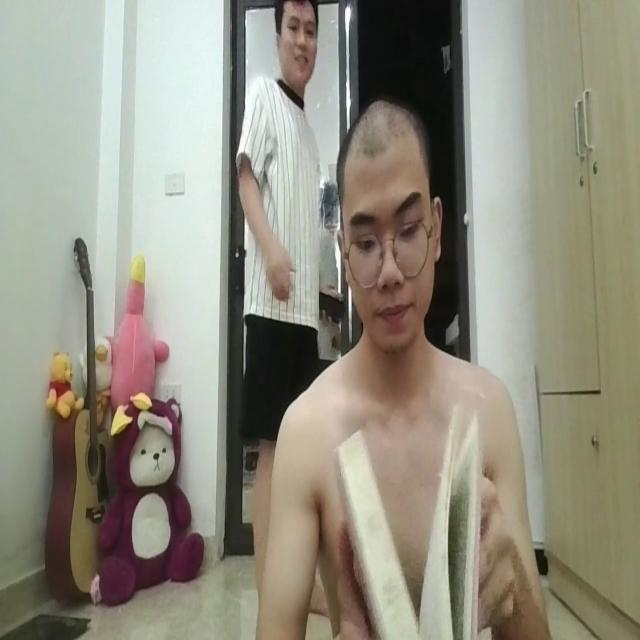book: (331, 357, 488, 640)
extra_person: (221, 3, 339, 632)
student: (266, 77, 540, 640)
